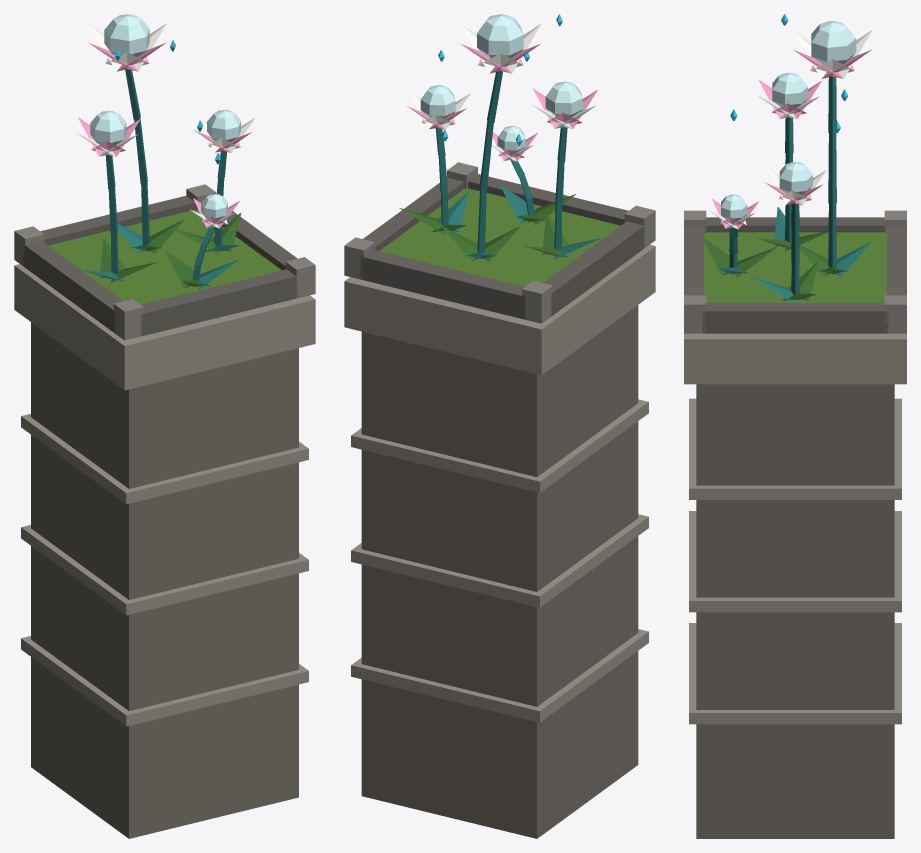
The model's file is decor_moon_flowers.glb.
The picture shows the model from 3 angles, left to right: view 1: azimuth 30°, elevation 25°; view 2: azimuth 150°, elevation 25°; view 3: azimuth 270°, elevation 25°; orthographic projection. The views are drawn at different scales.
Visible parts, largest first — view 1: decor_moon_flowers; view 2: decor_moon_flowers; view 3: decor_moon_flowers.
Part boxes in pixels (x1,y1,x2,y2): decor_moon_flowers: [14, 14, 315, 838]; decor_moon_flowers: [344, 14, 655, 838]; decor_moon_flowers: [684, 14, 906, 838].
Size of the model in its own units: 1.8 by 6.82 by 1.8.
